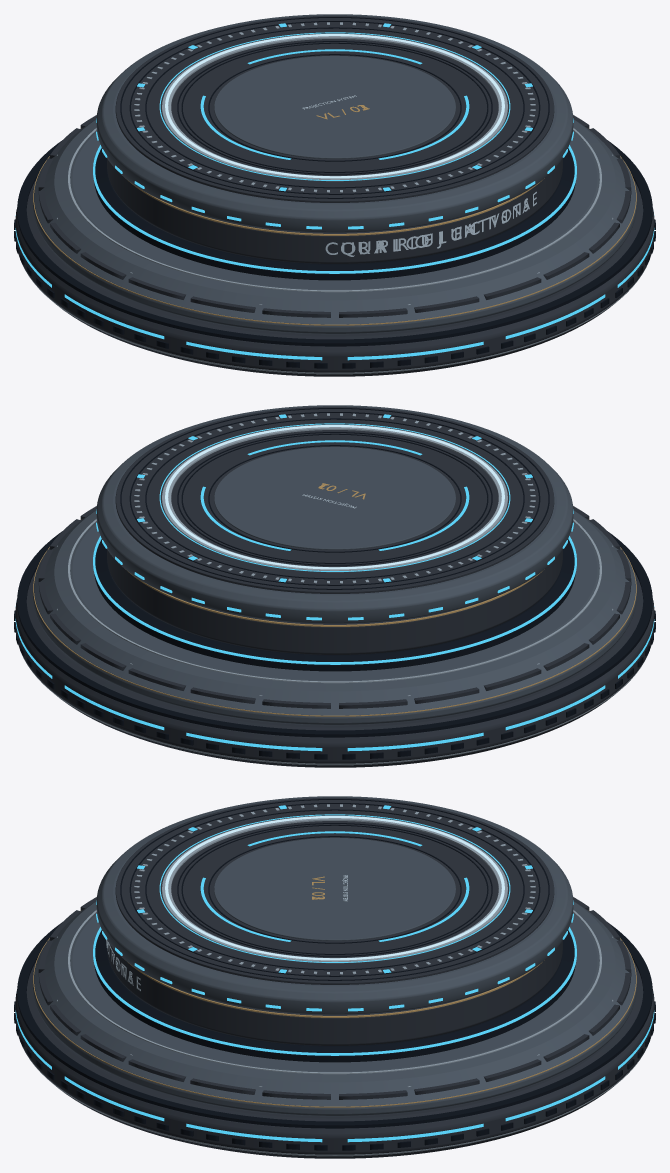
File: Sockel_eng_web.glb
3 views of the same model, one above another, from view 1: azimuth 30°, elevation 25°; view 2: azimuth 150°, elevation 25°; view 3: azimuth 270°, elevation 25° (orthographic).
Visible parts, largest first — view 1: abschluss-geometry, lebenslauf-geometry; view 2: abschluss-geometry; view 3: abschluss-geometry.
Boxes of the visible parts, bbox=[...] form: abschluss-geometry: bbox=[14, 14, 655, 376]; lebenslauf-geometry: bbox=[304, 96, 536, 254]; abschluss-geometry: bbox=[14, 405, 655, 767]; abschluss-geometry: bbox=[14, 796, 655, 1158].
Bounding box in the file's own units: 7.43 × 1.8 × 7.43.
